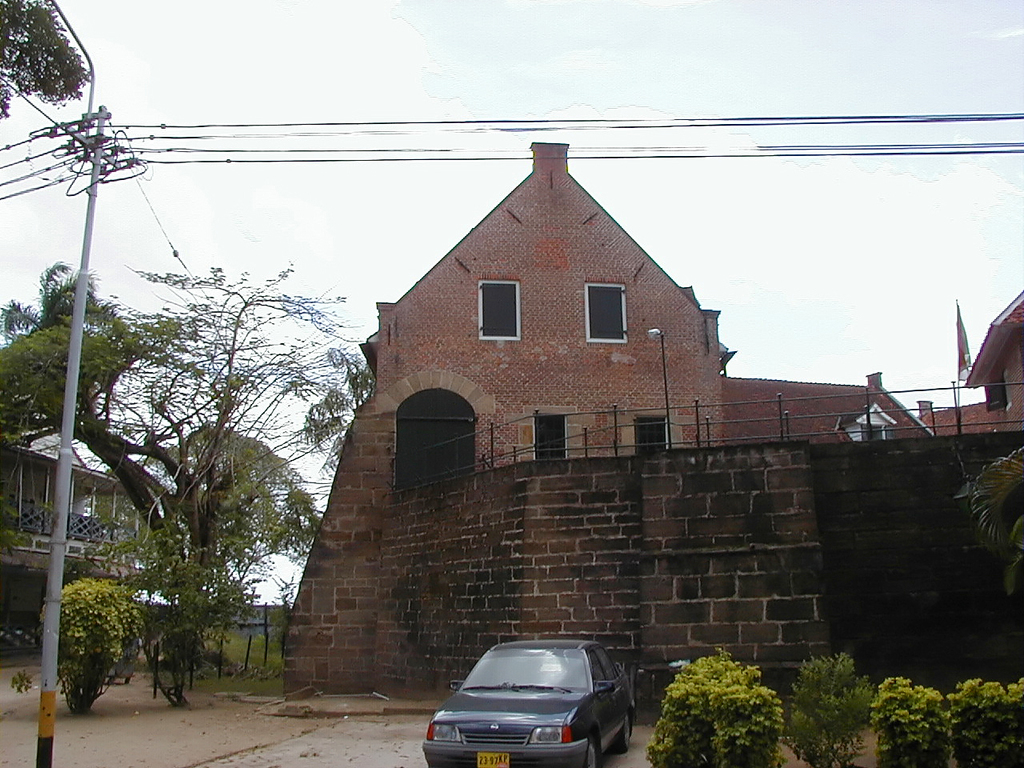Car: (426, 636, 643, 761)
